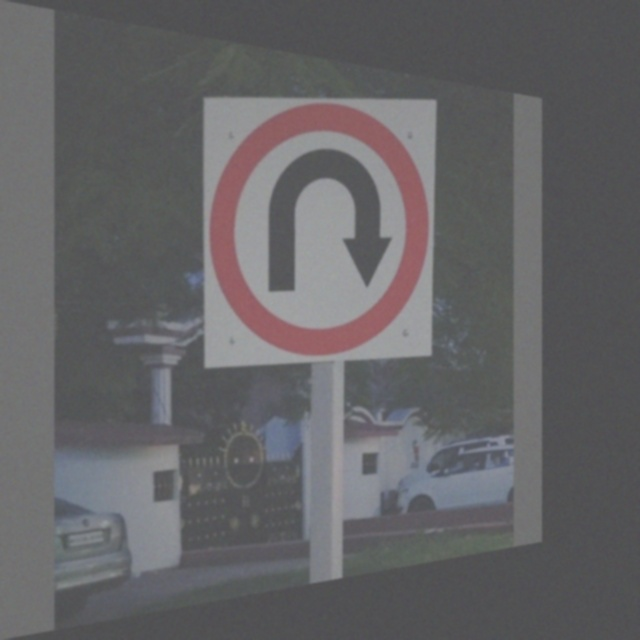U_Turn_Ahead: (199, 89, 431, 355)
